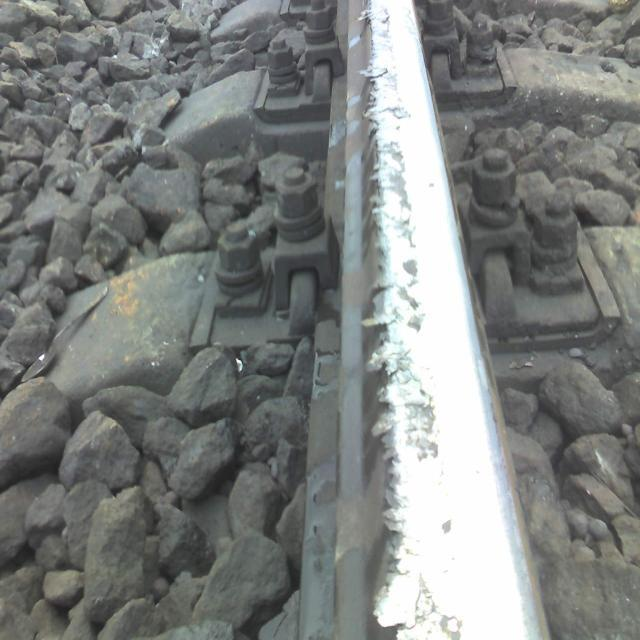head_checks_high: (356, 25, 417, 589)
